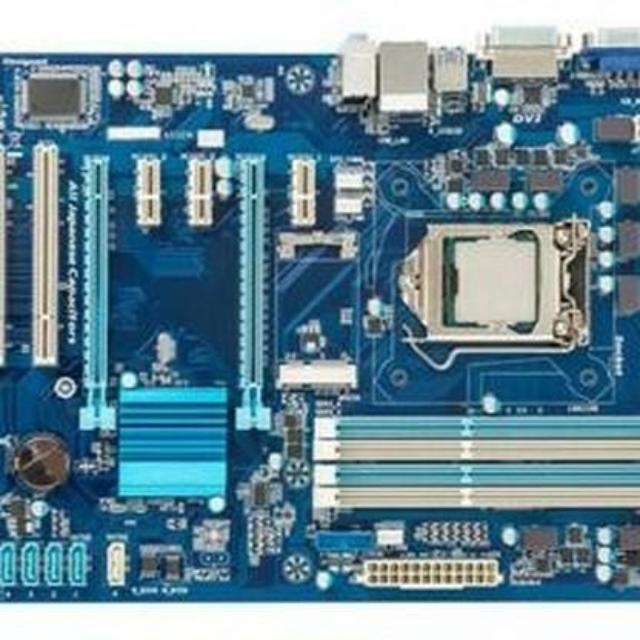Mainboard: (0, 49, 640, 612)
